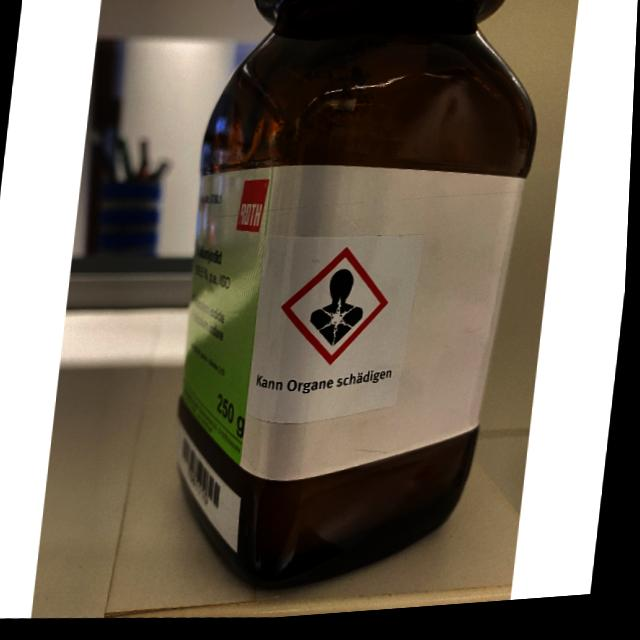serious health hazard: (311, 272, 369, 354)
